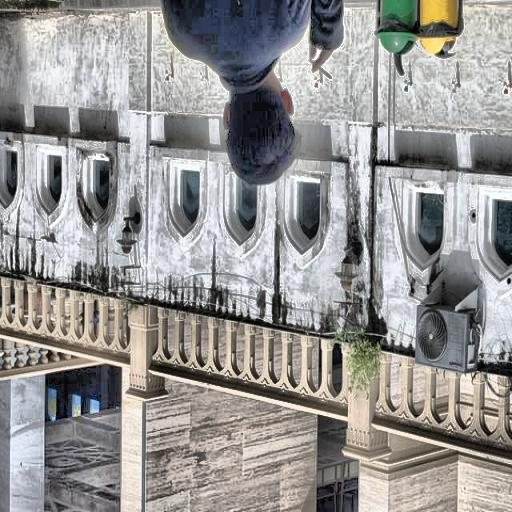Merokok: (313, 66, 331, 78)
Rokok: (160, 0, 342, 183)
